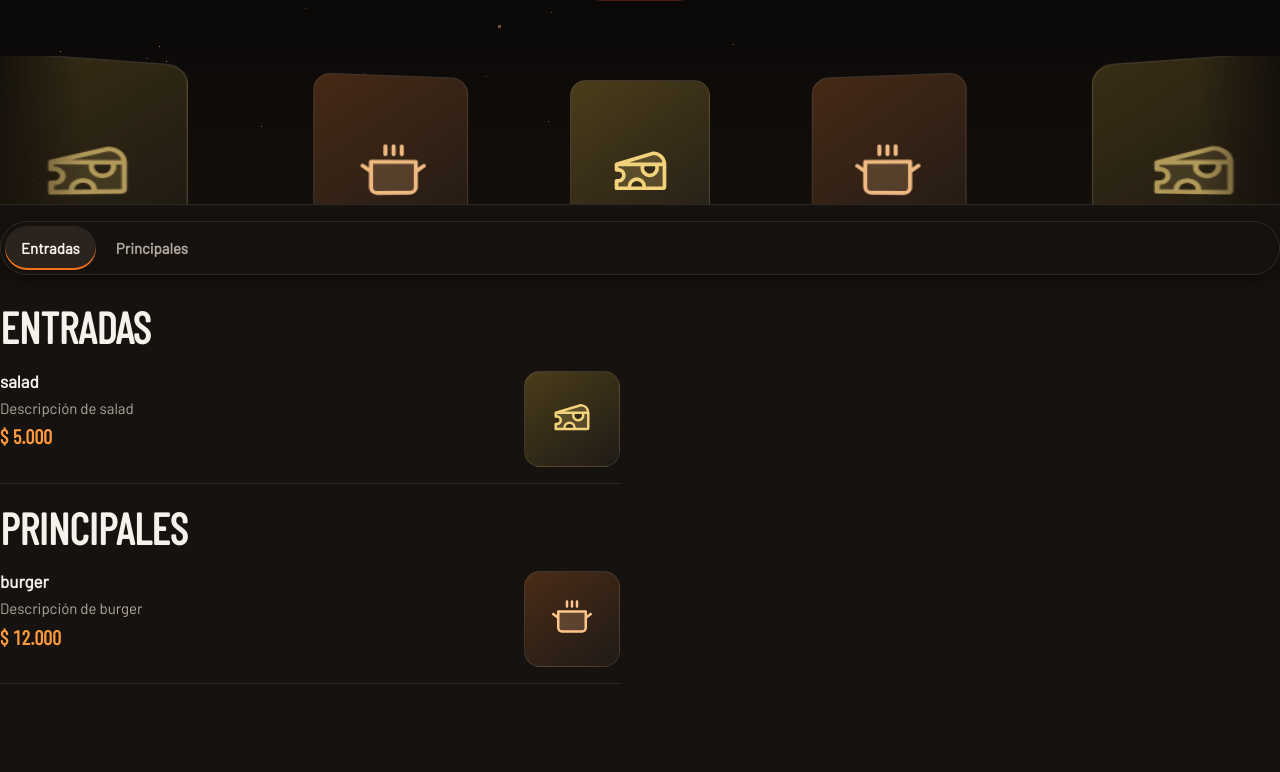
MenuScreen con el pedido en curso (T8) › al quitar la última línea el resumen se cierra solo y desaparece la barra
(page scrolled)
Click the button "salad Descripción de salad $ 5.000" at (19, 381), box [0,355,620,483]
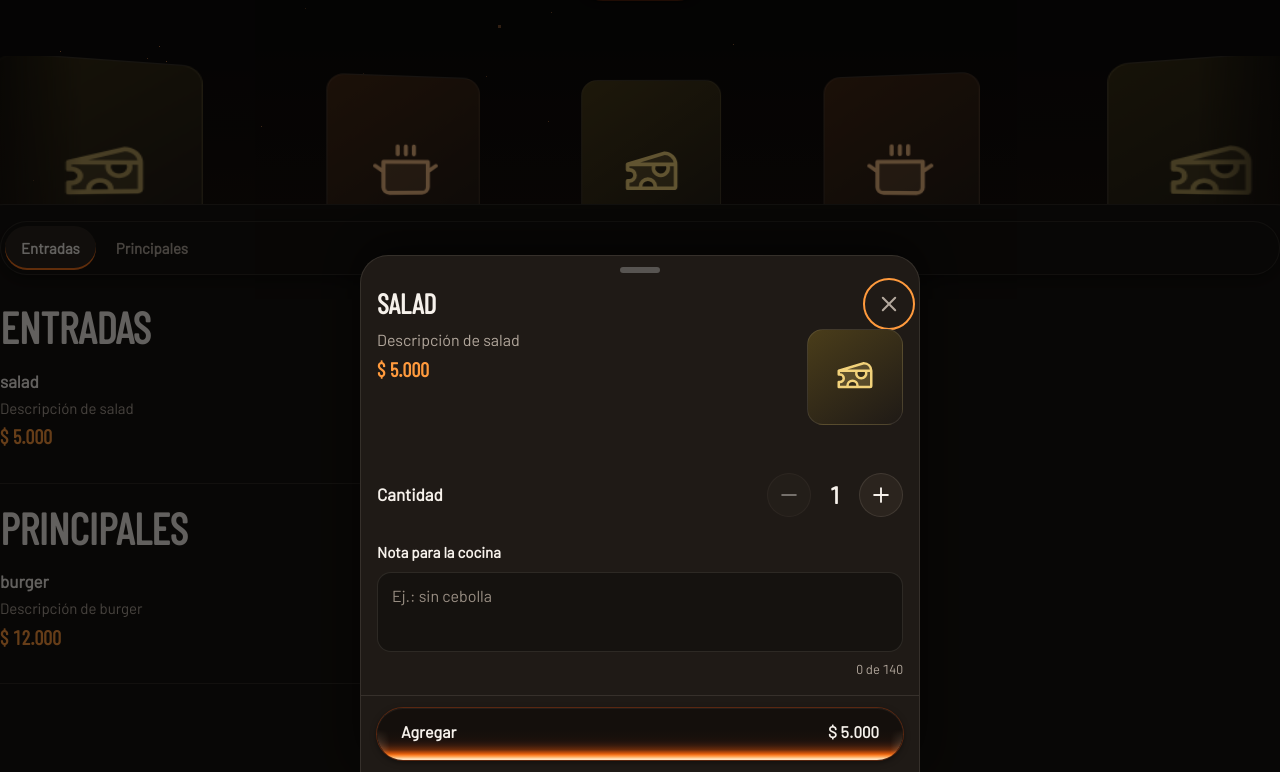
Click the button "Agregar $ 5.000" at (429, 732), box [377,708,903,760]
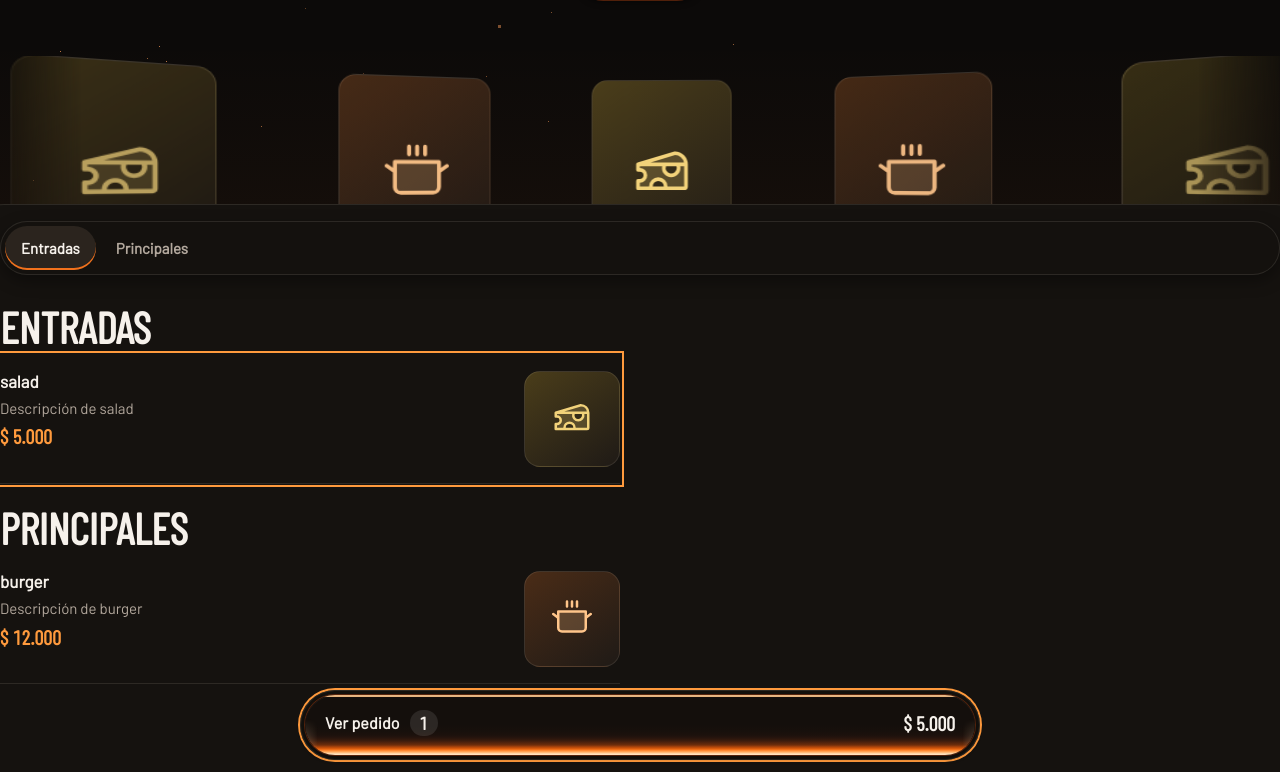
Click the button "Ver pedido 1 $ 5.000" at (362, 722), box [305,695,975,755]
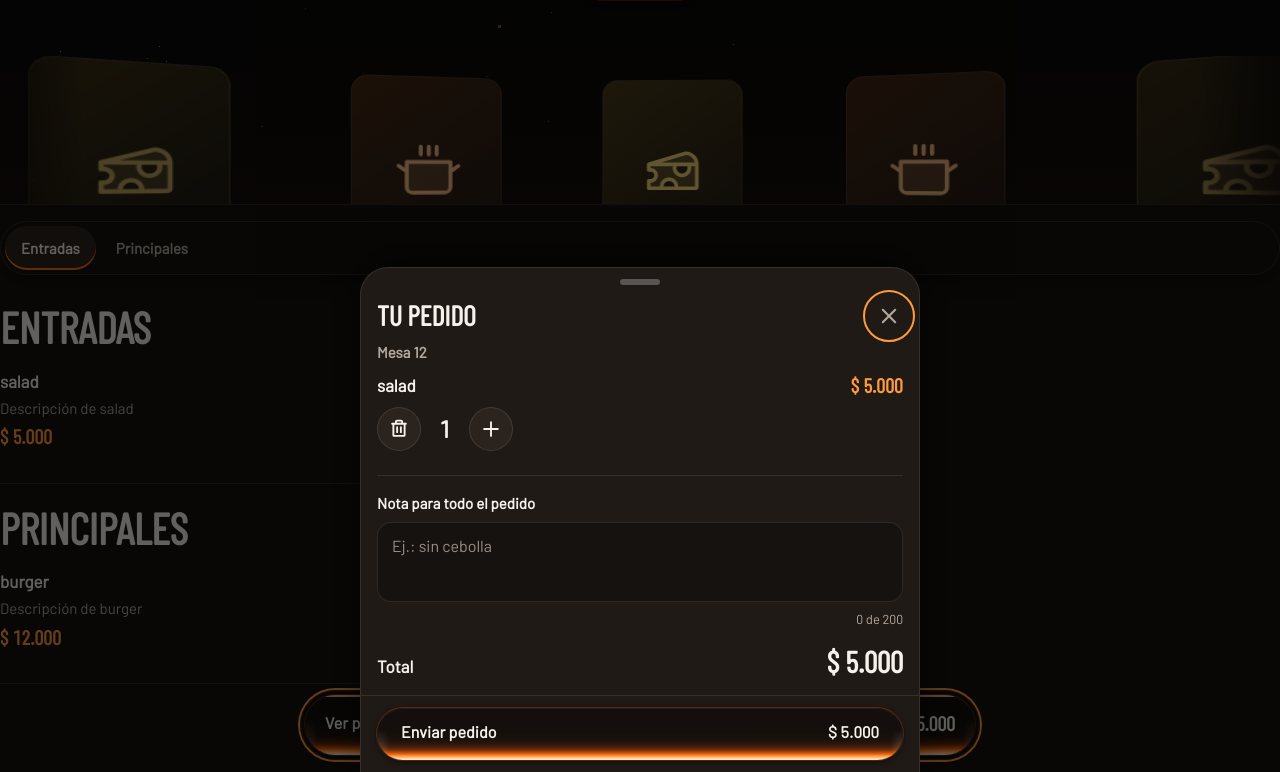
Click the button named "Quitar" at (399, 428), box [377,406,421,450]
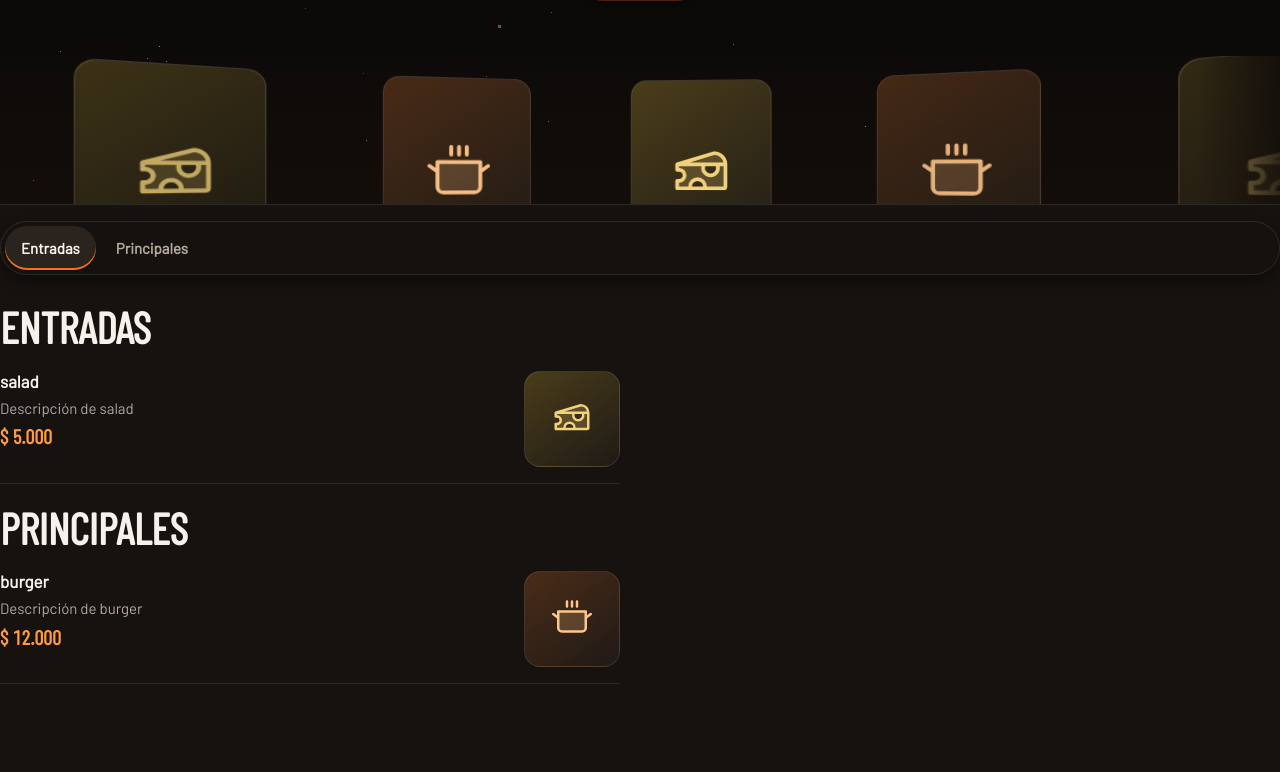
Result: the button "Ver pedido" is gone
